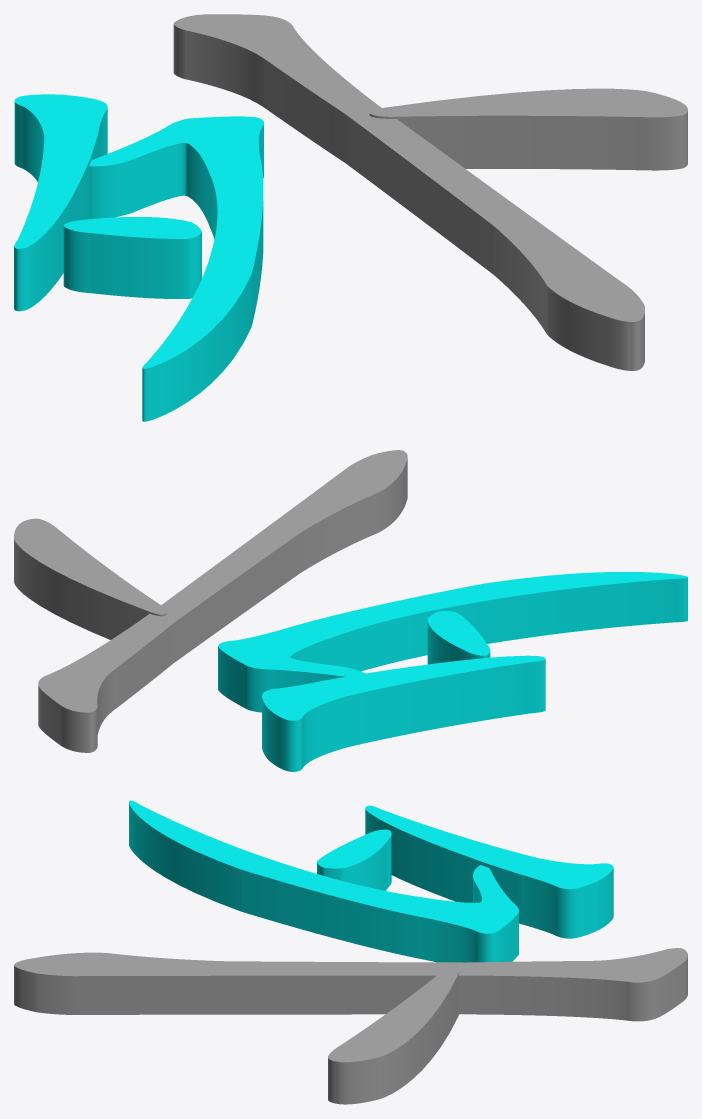
File: hanzi95.fbx
The picture shows the model from 3 angles, top to bottom: view 1: azimuth 30°, elevation 25°; view 2: azimuth 150°, elevation 25°; view 3: azimuth 270°, elevation 25°; orthographic projection. The views are drawn at different scales.
Visible parts, largest first — view 1: Curve.003, Curve.001, Curve.004, Curve, Curve.002; view 2: Curve.003, Curve.001, Curve, Curve.004, Curve.002; view 3: Curve.003, Curve.001, Curve, Curve.004, Curve.002.
Part boxes in pixels (<box>): Curve.003: <box>173,14,644,370</box>; Curve.001: <box>89,116,263,421</box>; Curve.004: <box>369,88,687,170</box>; Curve: <box>14,94,107,311</box>; Curve.002: <box>63,217,201,298</box>; Curve.003: <box>38,450,407,752</box>; Curve.001: <box>218,572,687,712</box>; Curve: <box>262,655,545,771</box>; Curve.004: <box>14,518,166,639</box>; Curve.002: <box>427,611,490,664</box>; Curve.003: <box>14,948,687,1021</box>; Curve.001: <box>129,800,518,962</box>; Curve: <box>365,805,613,938</box>; Curve.004: <box>328,967,459,1104</box>; Curve.002: <box>317,829,391,890</box>.
Size of the model in its own units: 23.82 by 25.9 by 2.1.
